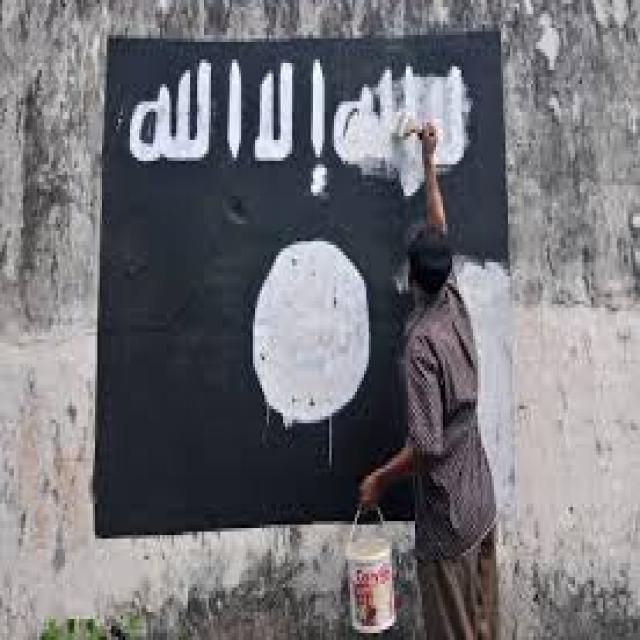-: (132, 60, 474, 200), (248, 235, 376, 420)
